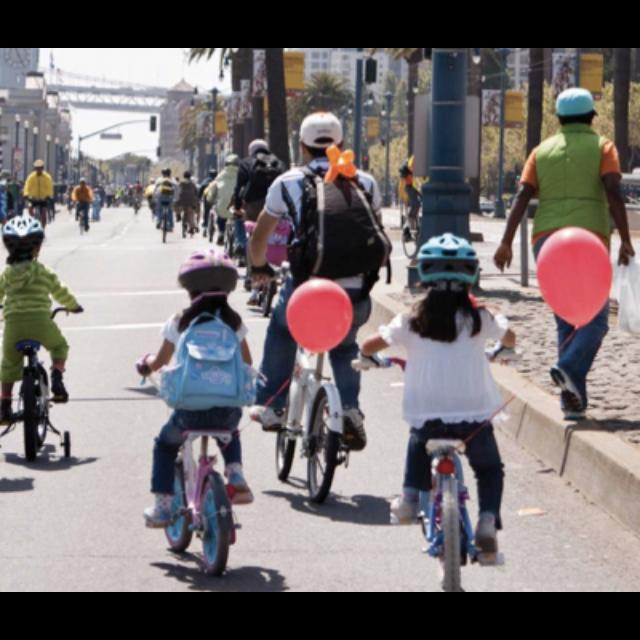With Helmet: (414, 229, 484, 299), (173, 243, 243, 307)
